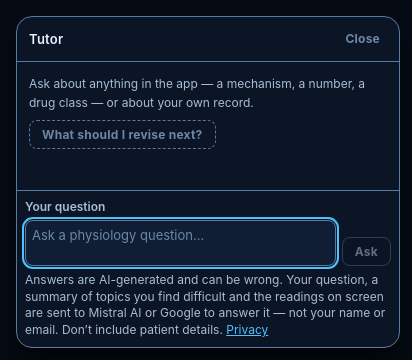
Test: ChatPanel › shows the answer as it streams in, not only once it is finished
Type "why does hyperventilation raise pH" into the text box labelled "Your question" at (180, 243), box top-left (25, 220), bottom-right (336, 266)
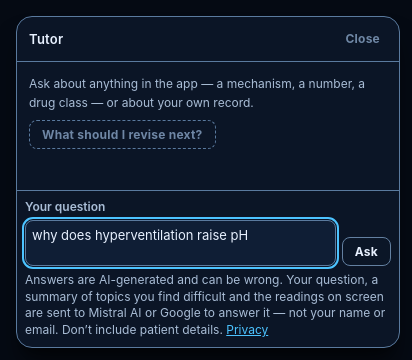
Click the button "Ask" at (366, 251), box top-left (342, 237), bottom-right (391, 266)
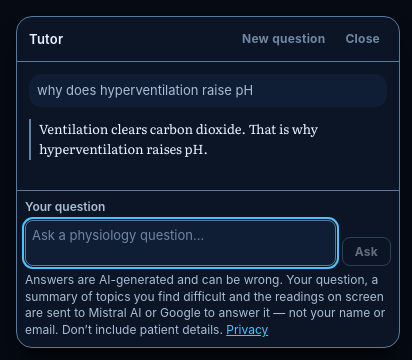
Check: the text "Ventilation clears carbon dioxide. That is why hyperventilation raises pH." is shown, box top-left (39, 119), bottom-right (318, 158)
